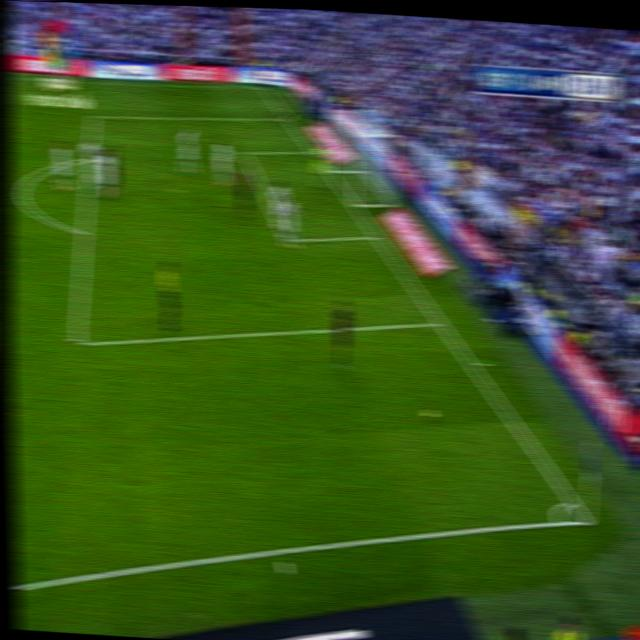bigarea_bottom_inner: (67, 324, 86, 355)
bigarea_top_inner: (238, 145, 250, 158)
bigarea_top_outter: (281, 111, 293, 121)
bottom_arc_area_intersection: (432, 313, 447, 331)
corner: (256, 83, 269, 91)
smallarea_bottom_outter: (368, 226, 383, 244)
smallarea_top_outter: (304, 142, 318, 158)
